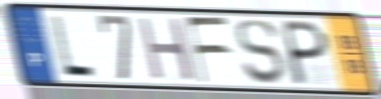7: (95, 13, 133, 82)
F: (183, 15, 232, 86)
H: (135, 15, 198, 83)
L: (48, 13, 99, 80)
P: (282, 18, 331, 88)
S: (233, 17, 288, 87)
